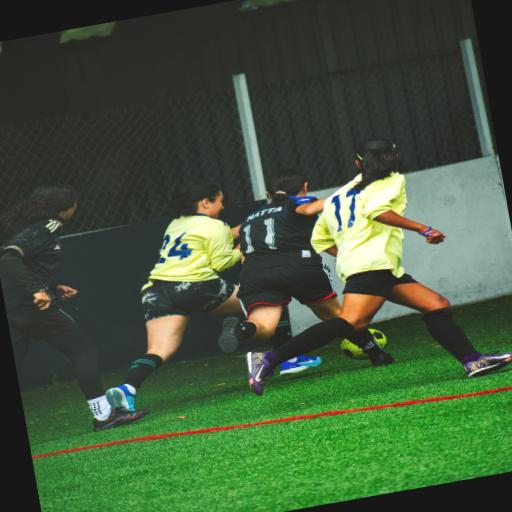shoe: (93, 408, 148, 431), (465, 351, 511, 377), (247, 352, 274, 395), (218, 316, 239, 354), (106, 385, 136, 411), (280, 356, 321, 374), (370, 352, 396, 366)
